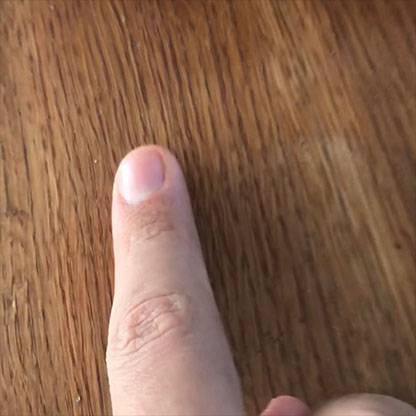fingertip: (94, 130, 194, 228)
